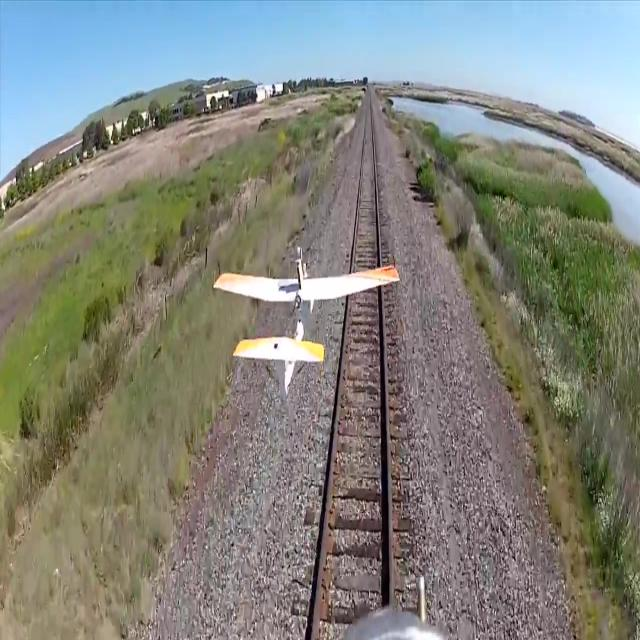iha: (212, 247, 401, 401)
